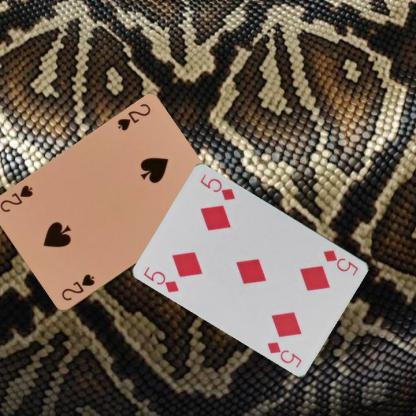2s: (114, 101, 152, 133), (58, 272, 96, 302)
5d: (320, 247, 360, 277), (141, 264, 181, 294)
